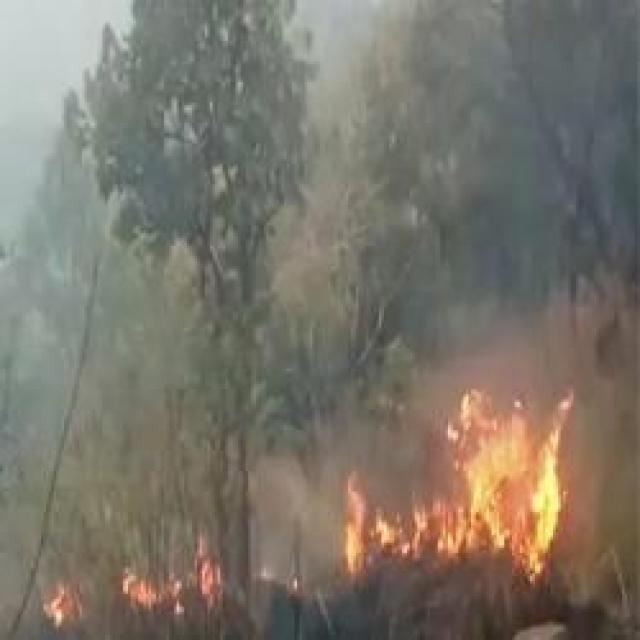fire: (332, 378, 594, 590), (48, 550, 238, 617)
